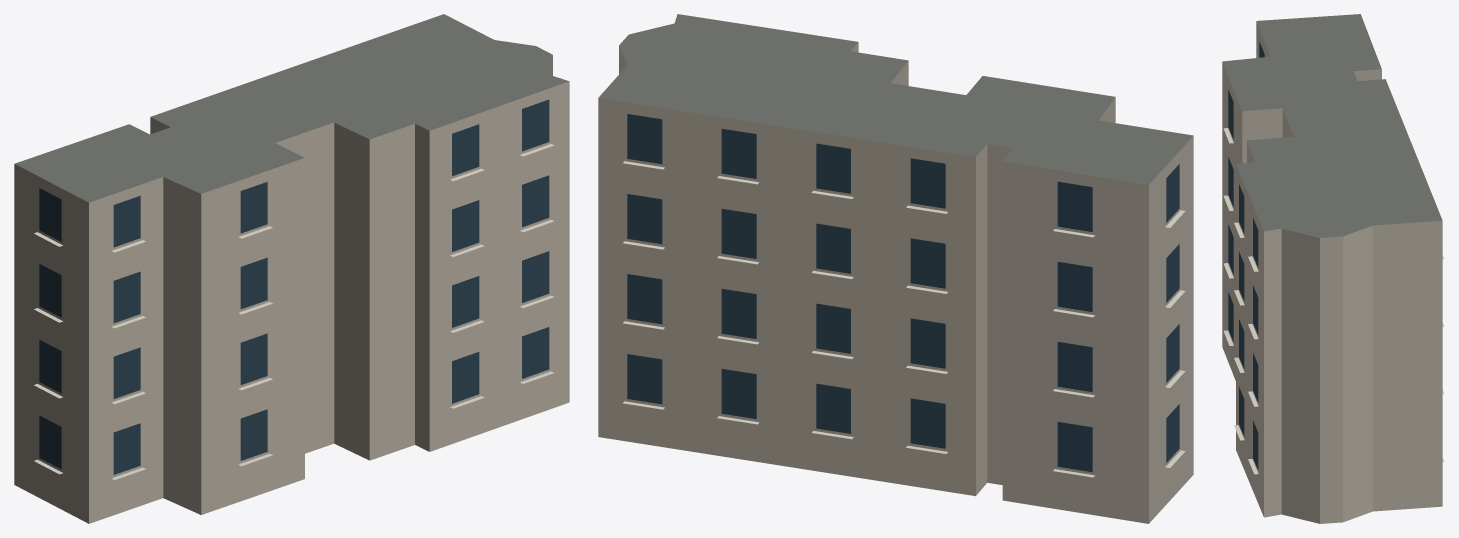
The picture shows the model from 3 angles, left to right: view 1: azimuth 30°, elevation 25°; view 2: azimuth 150°, elevation 25°; view 3: azimuth 270°, elevation 25°; orthographic projection. The views are drawn at different scales.
Parts seen in each view (by area): view 1: Footprint 0, Inferred window bays, Window sills; view 2: Footprint 0, Inferred window bays, Window sills; view 3: Footprint 0, Inferred window bays, Window sills.
Boxes of the visible parts, x1=… form: Footprint 0: x1=14, y1=14, x2=569, y2=523; Inferred window bays: x1=39, y1=99, x2=549, y2=474; Window sills: x1=34, y1=144, x2=554, y2=479; Footprint 0: x1=598, y1=14, x2=1193, y2=523; Inferred window bays: x1=627, y1=114, x2=1179, y2=472; Window sills: x1=623, y1=161, x2=1185, y2=477; Footprint 0: x1=1222, y1=14, x2=1442, y2=523; Inferred window bays: x1=1228, y1=41, x2=1264, y2=469; Window sills: x1=1223, y1=128, x2=1444, y2=474.
Bounding box in the file's own units: 20.92 × 12.44 × 8.76.
